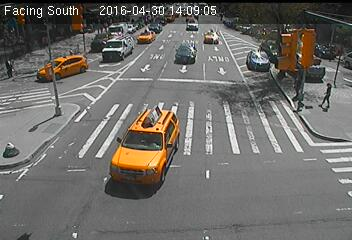neg: (256, 166, 277, 195), (118, 120, 139, 148), (113, 197, 133, 224), (312, 193, 332, 220), (288, 138, 308, 164), (205, 130, 224, 156), (3, 139, 21, 164), (86, 135, 104, 159), (158, 193, 176, 215), (49, 104, 66, 127), (91, 58, 108, 80), (212, 184, 228, 206), (130, 86, 146, 108), (229, 92, 245, 113), (121, 36, 136, 56), (160, 132, 174, 152), (159, 36, 173, 56), (176, 76, 190, 94), (267, 41, 281, 59), (210, 32, 224, 50), (279, 88, 292, 106), (235, 63, 248, 80), (45, 155, 56, 169)
pos: (316, 79, 340, 111), (3, 56, 22, 81)
